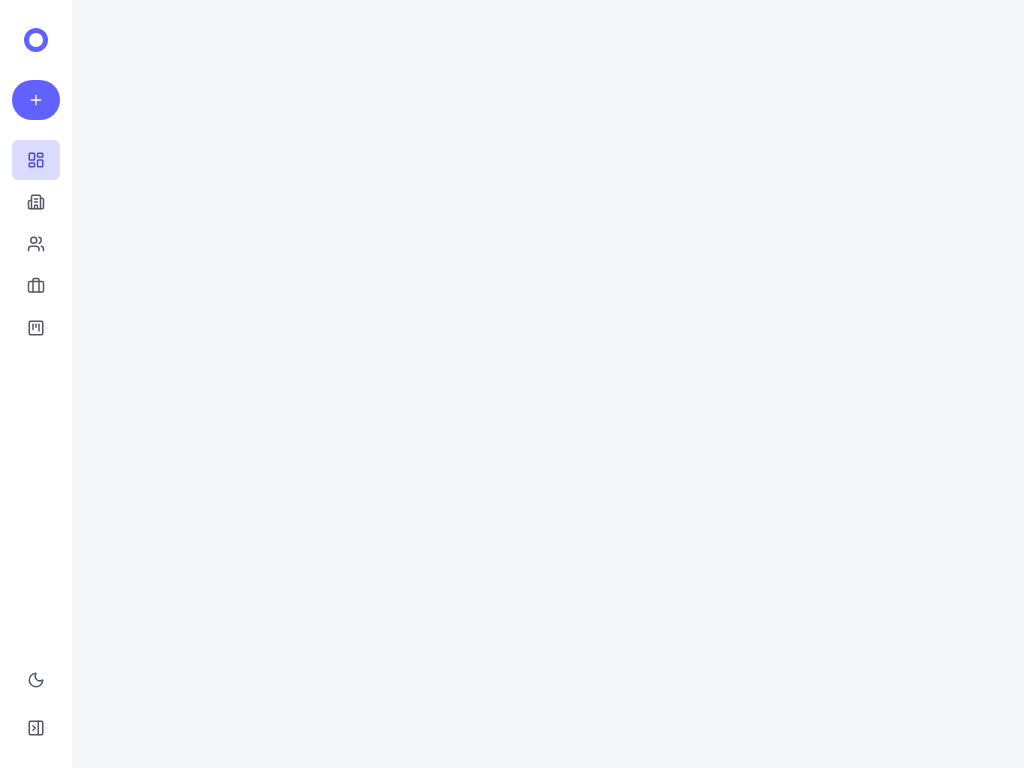
it: sidebar › dark mode switch › keeps its name and shows a tooltip when the sidebar is collapsed
Step 1. Hover over the switch named "Dark mode" → (36, 680), box [12, 660, 60, 700]
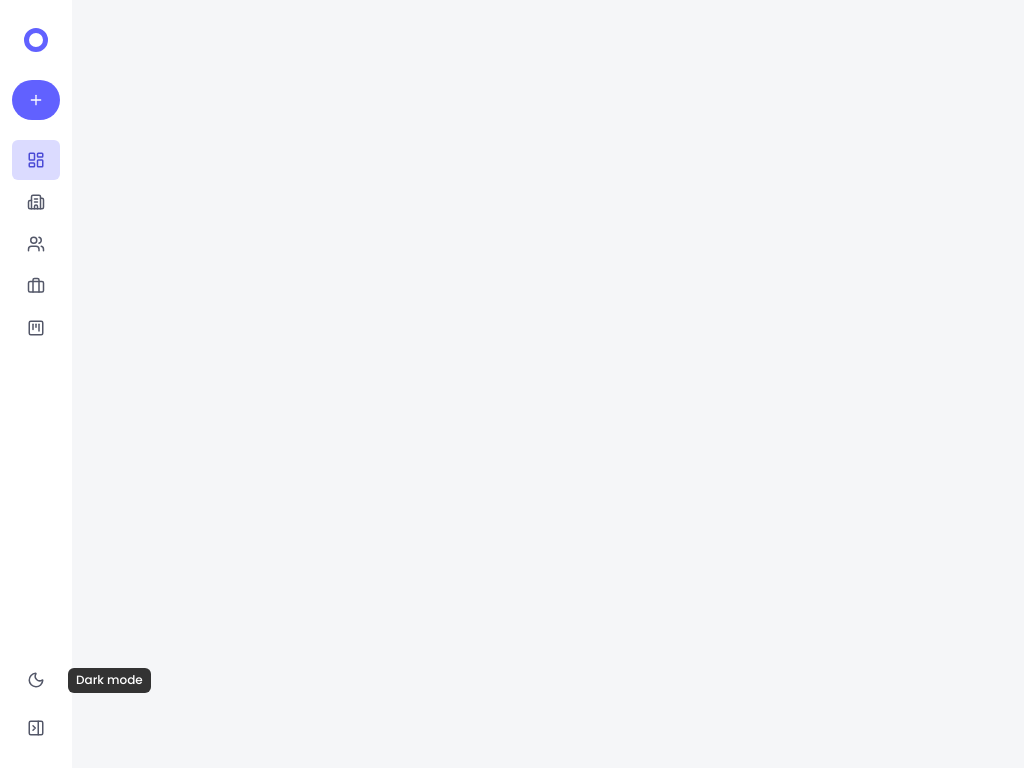
Check: the tooltip "Dark mode" is shown, box [68, 668, 151, 693]
Step 2. Click the switch named "Dark mode" → (36, 680), box [12, 660, 60, 700]
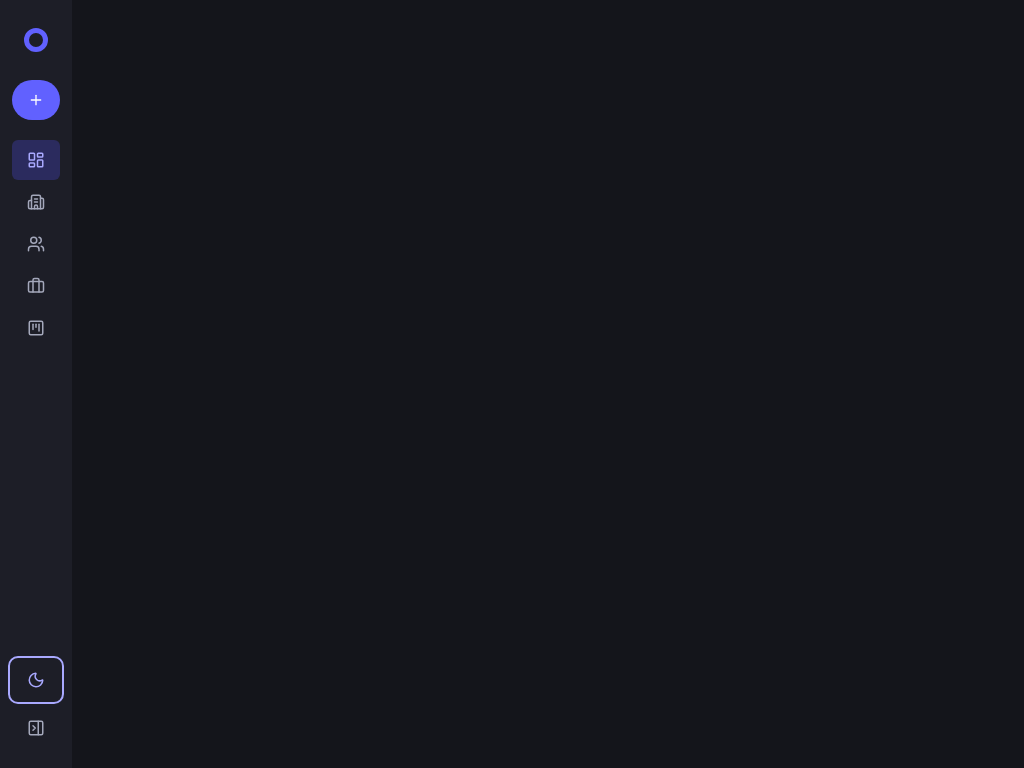
Check: the switch named "Dark mode" is checked, box [12, 660, 60, 700]
